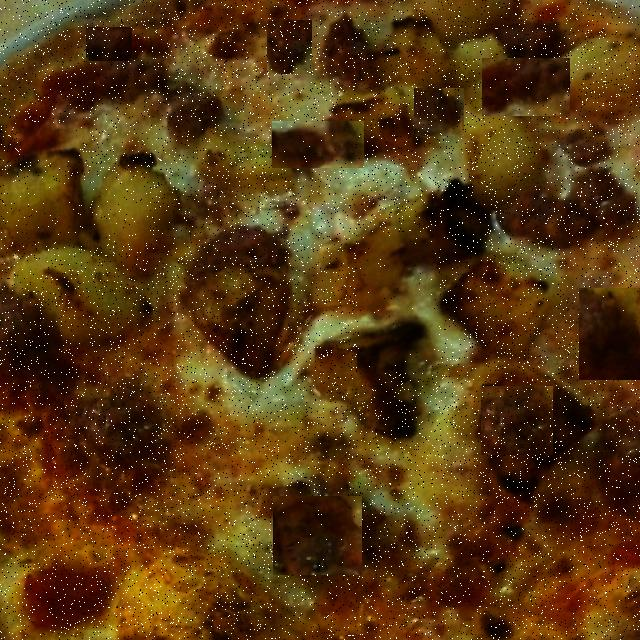Beef: (359, 232, 439, 372), (8, 178, 150, 242), (273, 496, 362, 575), (579, 288, 640, 380), (482, 58, 570, 116), (481, 386, 553, 455), (272, 122, 364, 170), (268, 20, 314, 74), (414, 88, 464, 136), (24, 123, 73, 160), (86, 27, 132, 61)
Pizza: (0, 0, 640, 640)
